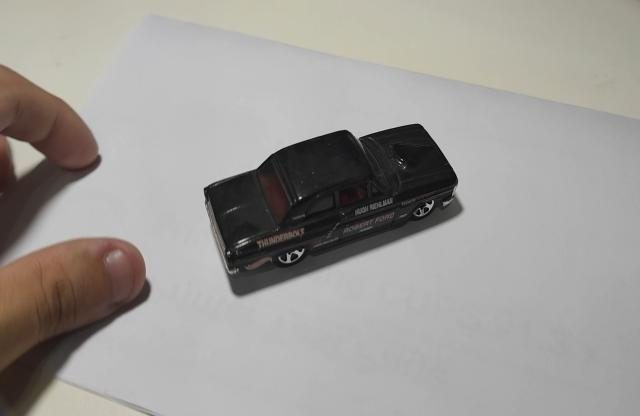01_FORD: (205, 124, 459, 299)
